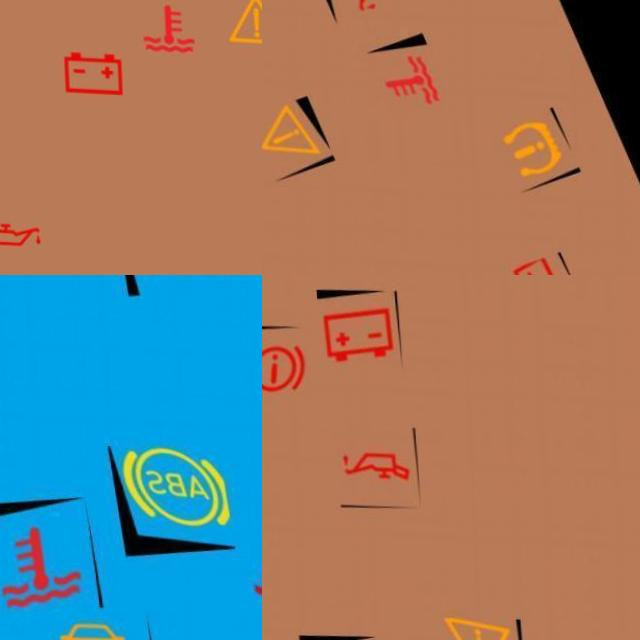High Engine Coolant Temperature: (129, 0, 202, 59)
